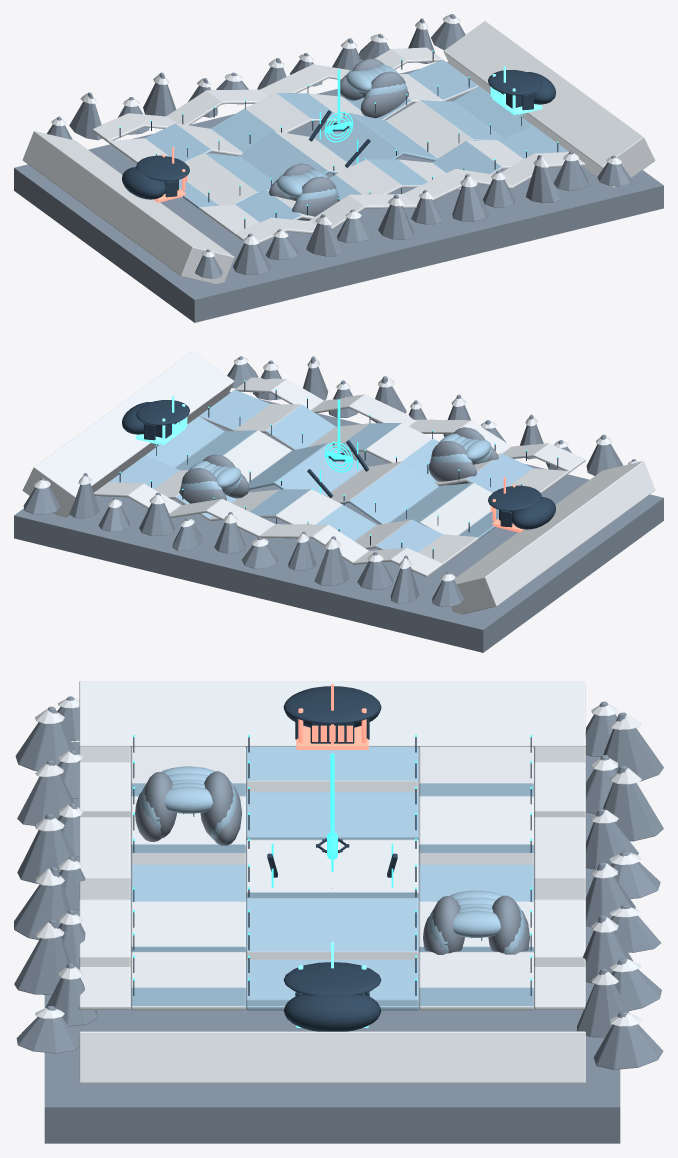
The model's file is CTFGame_TitanAlpine_v01.fbx.
3 renders of one model, top to bottom at view 1: azimuth 30°, elevation 25°; view 2: azimuth 150°, elevation 25°; view 3: azimuth 270°, elevation 25°, orthographic. The views are drawn at different scales.
Parts seen in each view (by area): view 1: WorldGround, MainRoute, RedBackfield, BlueBackfield, SideRoute_S, SideRoute_N, RimRoute_S, RimRoute_N, Red_RoofCanopy, Blue_RoofCanopy, CanyonSpire_14, Red_RearHull (+18 smaller); view 2: WorldGround, MainRoute, RedBackfield, SideRoute_N, BlueBackfield, SideRoute_S, RimRoute_S, RimRoute_N, Red_RoofCanopy, Blue_RoofCanopy, Red_RearHull, CanyonSpire_07 (+18 smaller); view 3: WorldGround, MainRoute, RedBackfield, BlueBackfield, SideRoute_S, SideRoute_N, RimRoute_S, RimRoute_N, Blue_RearHull, Red_RoofCanopy, Blue_RoofCanopy, CanyonSpire_23 (+27 smaller).
Boxes of the visible parts, box(x1,y1,x2,y2) form: WorldGround: box(14, 62, 663, 322); MainRoute: box(179, 86, 532, 208); RedBackfield: box(22, 131, 234, 284); BlueBackfield: box(443, 21, 655, 187); SideRoute_S: box(108, 59, 478, 163); SideRoute_N: box(199, 126, 568, 235); RimRoute_S: box(92, 47, 442, 142); RimRoute_N: box(235, 152, 585, 244); Red_RoofCanopy: box(136, 155, 189, 181); Blue_RoofCanopy: box(488, 70, 541, 95); CanyonSpire_14: box(452, 174, 489, 221); Red_RearHull: box(122, 167, 166, 199); WorldGround: box(14, 392, 663, 652); MainRoute: box(145, 416, 498, 538); RedBackfield: box(451, 461, 655, 614); SideRoute_N: box(199, 389, 569, 493); BlueBackfield: box(22, 351, 234, 517); SideRoute_S: box(109, 456, 478, 565); RimRoute_S: box(94, 482, 442, 577); RimRoute_N: box(235, 377, 585, 472); Red_RoofCanopy: box(488, 485, 541, 511); Blue_RoofCanopy: box(136, 400, 189, 425); Red_RearHull: box(511, 497, 555, 529); CanyonSpire_07: box(314, 536, 349, 585); WorldGround: box(44, 742, 620, 1143); MainRoute: box(246, 746, 418, 1010); RedBackfield: box(79, 681, 585, 747); BlueBackfield: box(79, 1031, 585, 1083); SideRoute_S: box(419, 746, 533, 1010); SideRoute_N: box(131, 746, 246, 1010); RimRoute_S: box(534, 746, 585, 1009); RimRoute_N: box(79, 746, 130, 1009); Blue_RearHull: box(283, 994, 381, 1031); Red_RoofCanopy: box(283, 688, 381, 724); Blue_RoofCanopy: box(283, 962, 381, 995); CanyonSpire_23: box(593, 1011, 663, 1069).
Size of the model in its own units: 7580 by 1985 by 5644.
